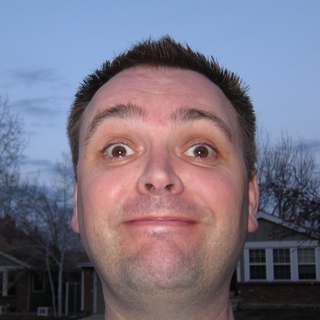eye: (172, 134, 225, 168), (91, 138, 142, 163)
